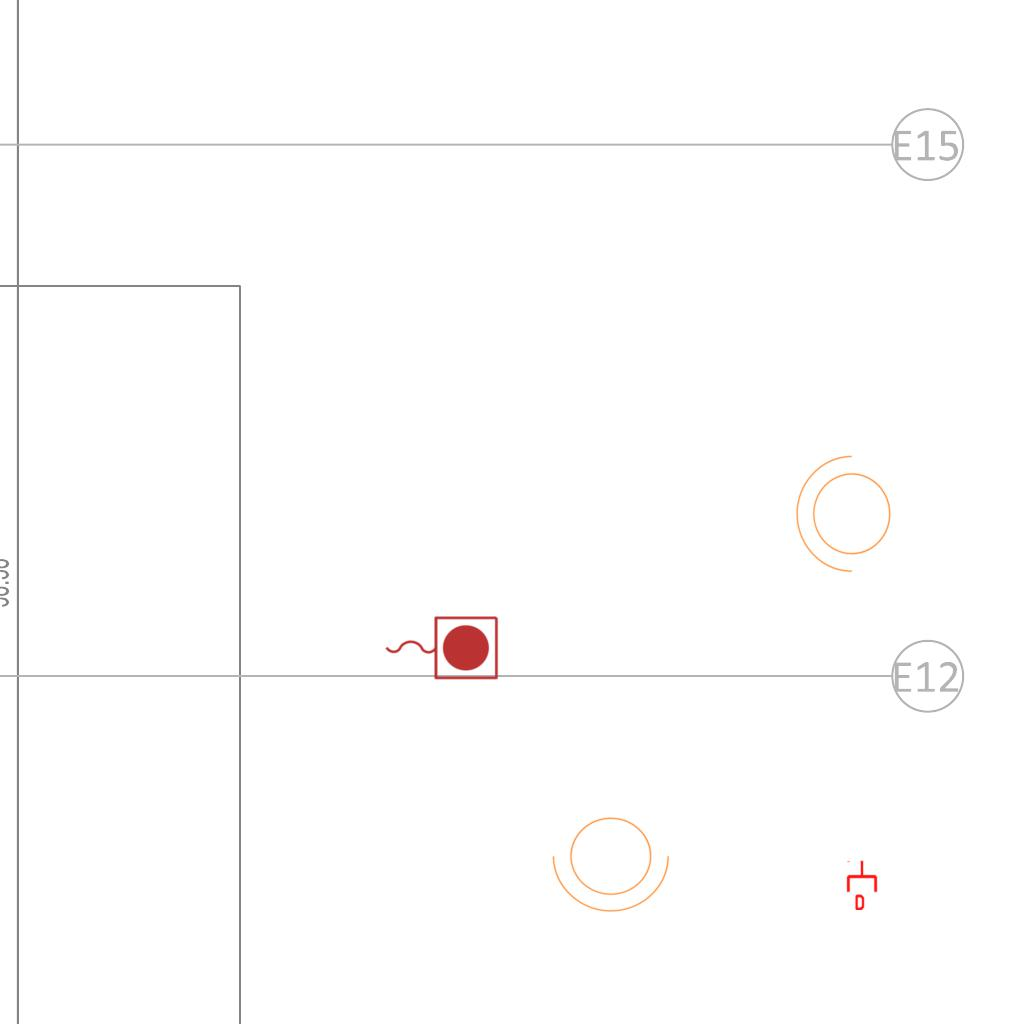Datenanschluss_einfach: (845, 860, 879, 910)
Scheinwerfer_fuer_Alarmbeleuchtung: (548, 805, 680, 917), (791, 451, 903, 583)
Zugtaster: (380, 611, 502, 683)
